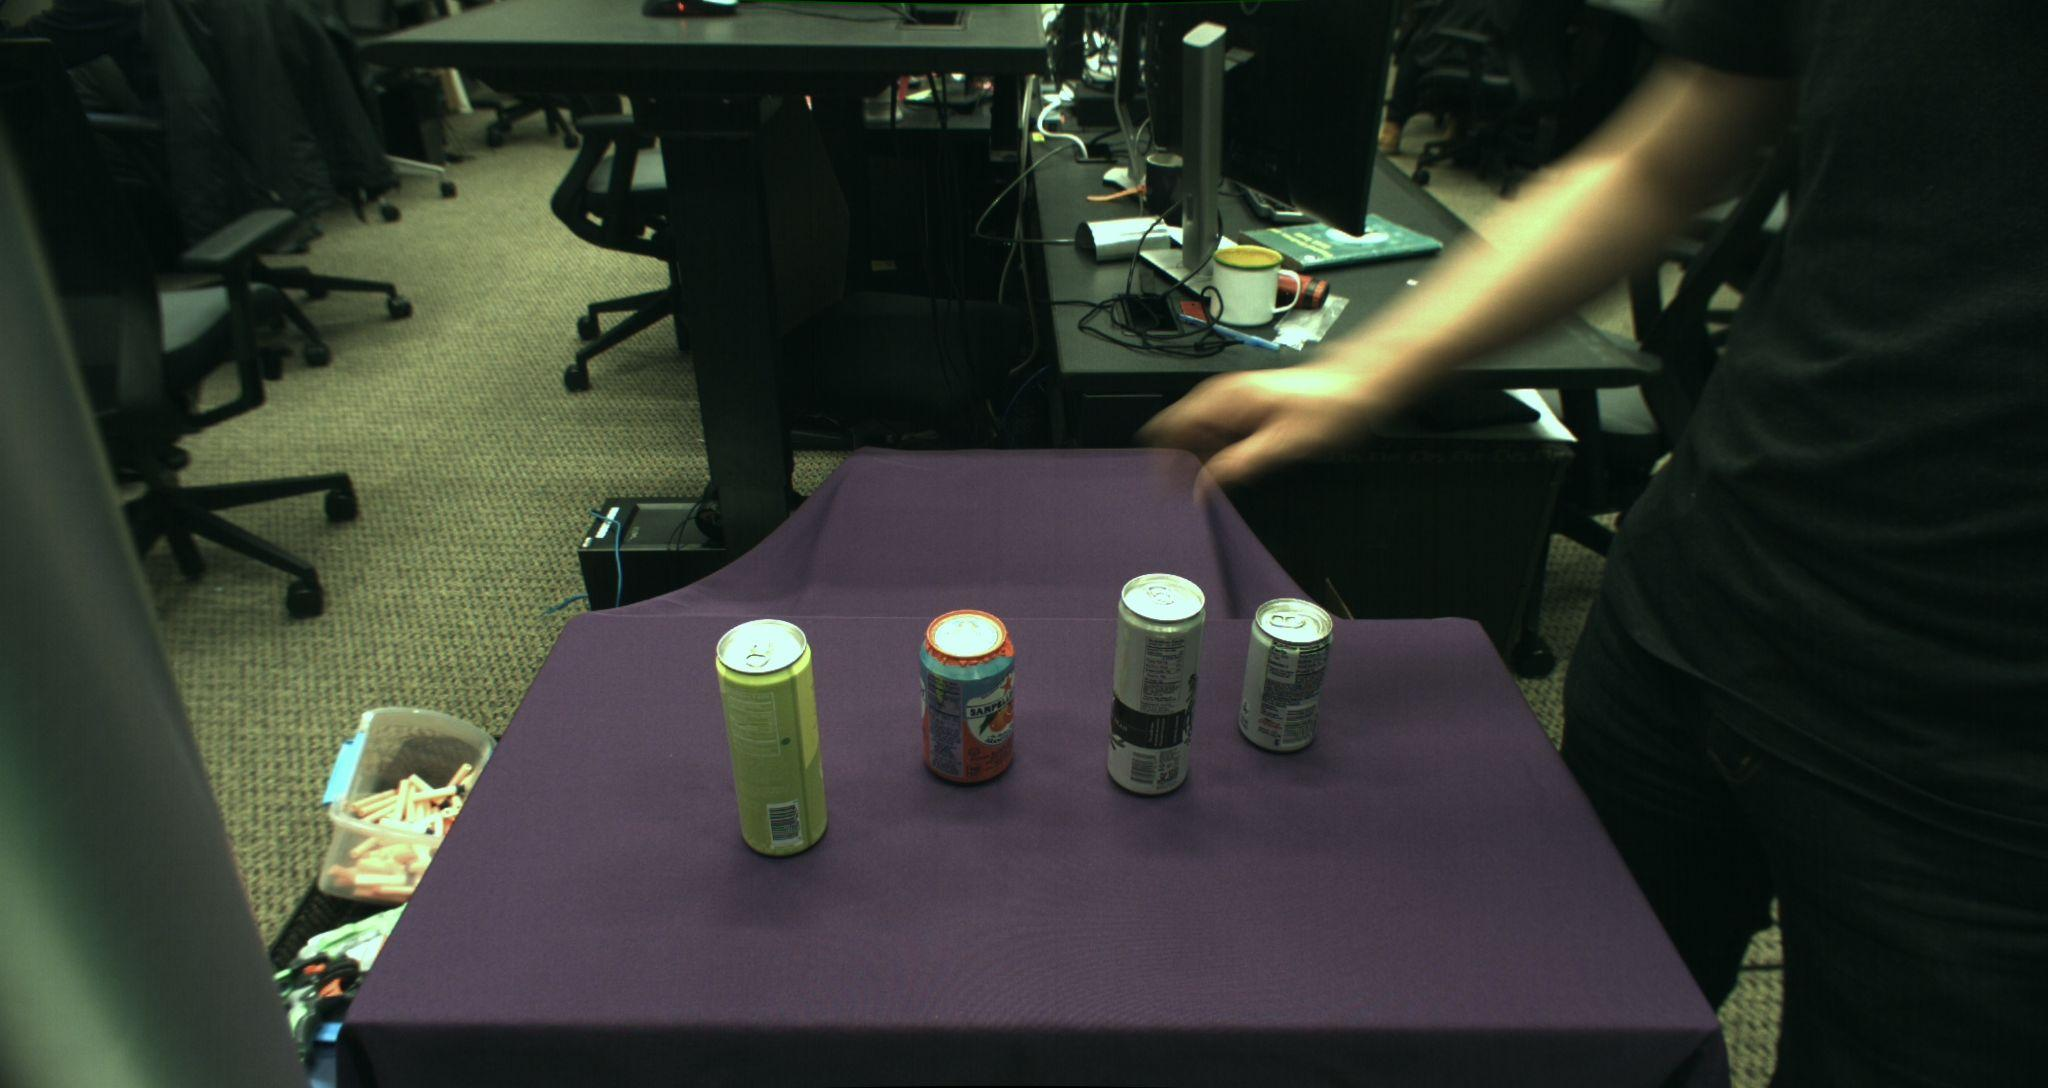can_diet_coke_small: (1239, 596, 1334, 753)
can_dry_sparkling_vanilla_bean: (1108, 570, 1206, 797)
can_izze_fusions_lemon_lime: (715, 616, 826, 856)
can_sanpellegrino_blood_orange: (918, 608, 1016, 784)
